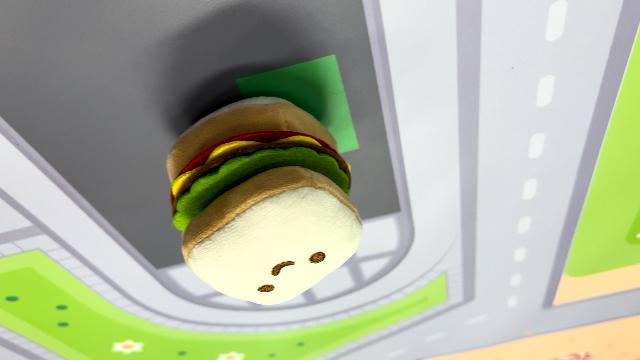sandwich: (164, 93, 366, 306)
